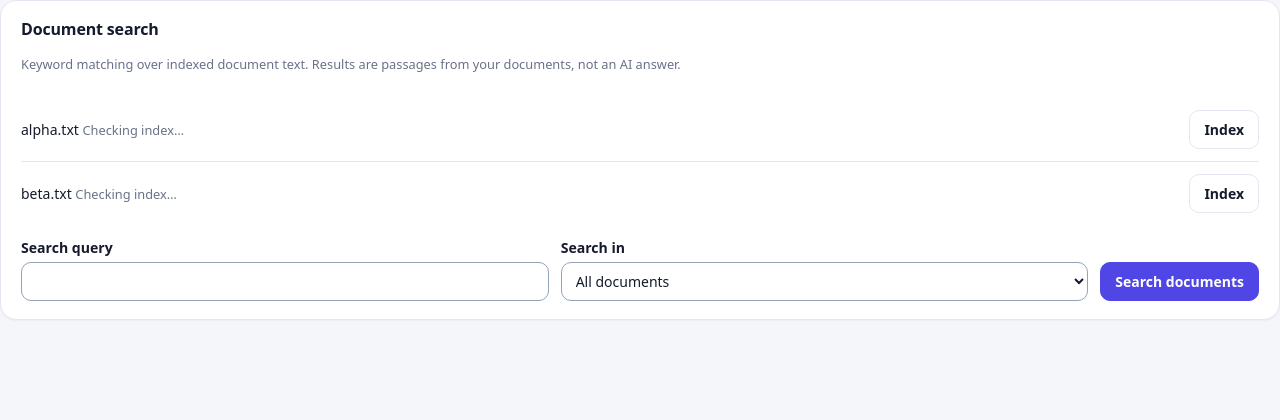
Test: DocumentSearch › shows a search error
The width and height of the screenshot is (1280, 420).
Expected: the button with aria-label "Index alpha.txt" is shown, 1189,110 -> 1259,149
Type "!!!" into the search field labelled "Search query" at [285, 282], box 21,262 -> 549,301
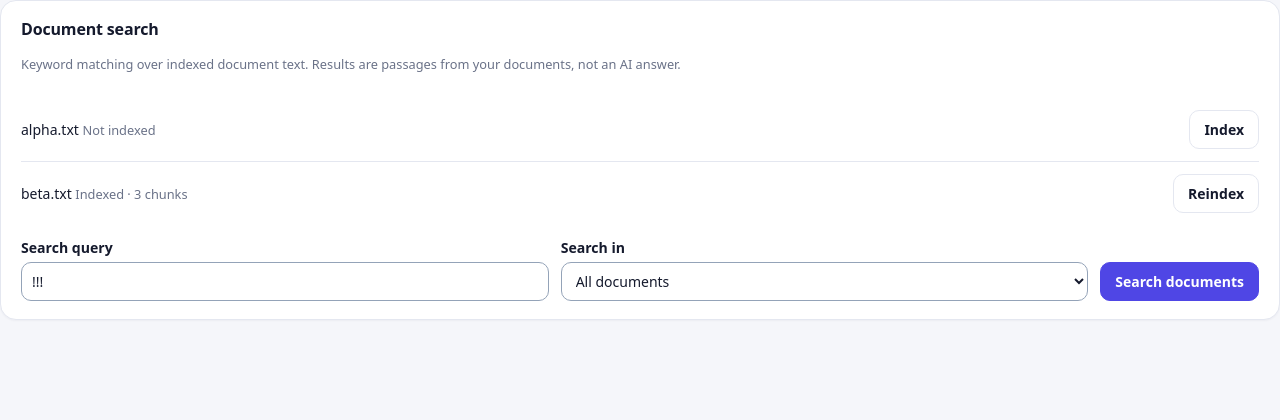
Click the button "Search documents" at [1180, 282], box 1100,262 -> 1259,301
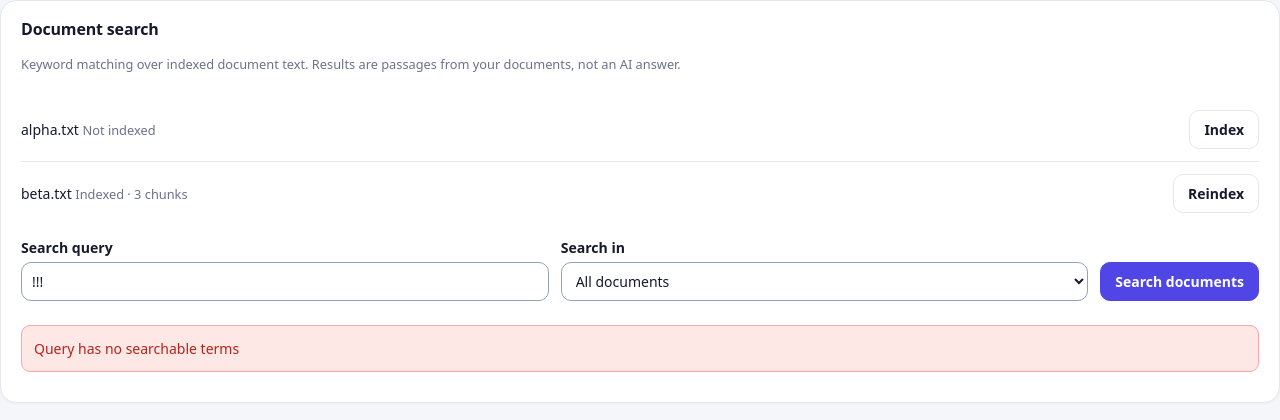
Expected: the message reads "Query has no searchable terms", 34,339 -> 239,358
